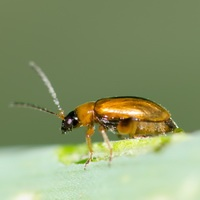insect: (13, 61, 182, 166)
